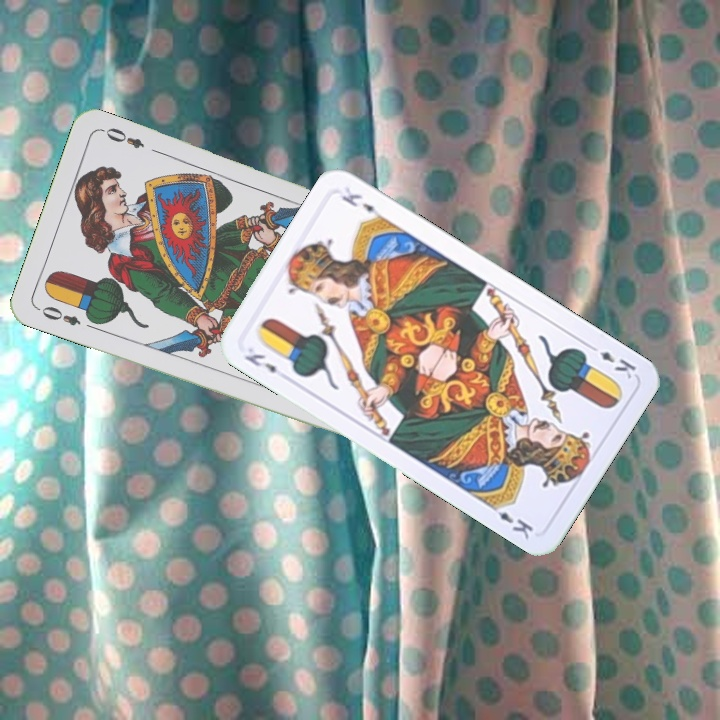EK: (584, 340, 639, 382), (240, 349, 280, 376)
EO: (33, 302, 84, 329)
